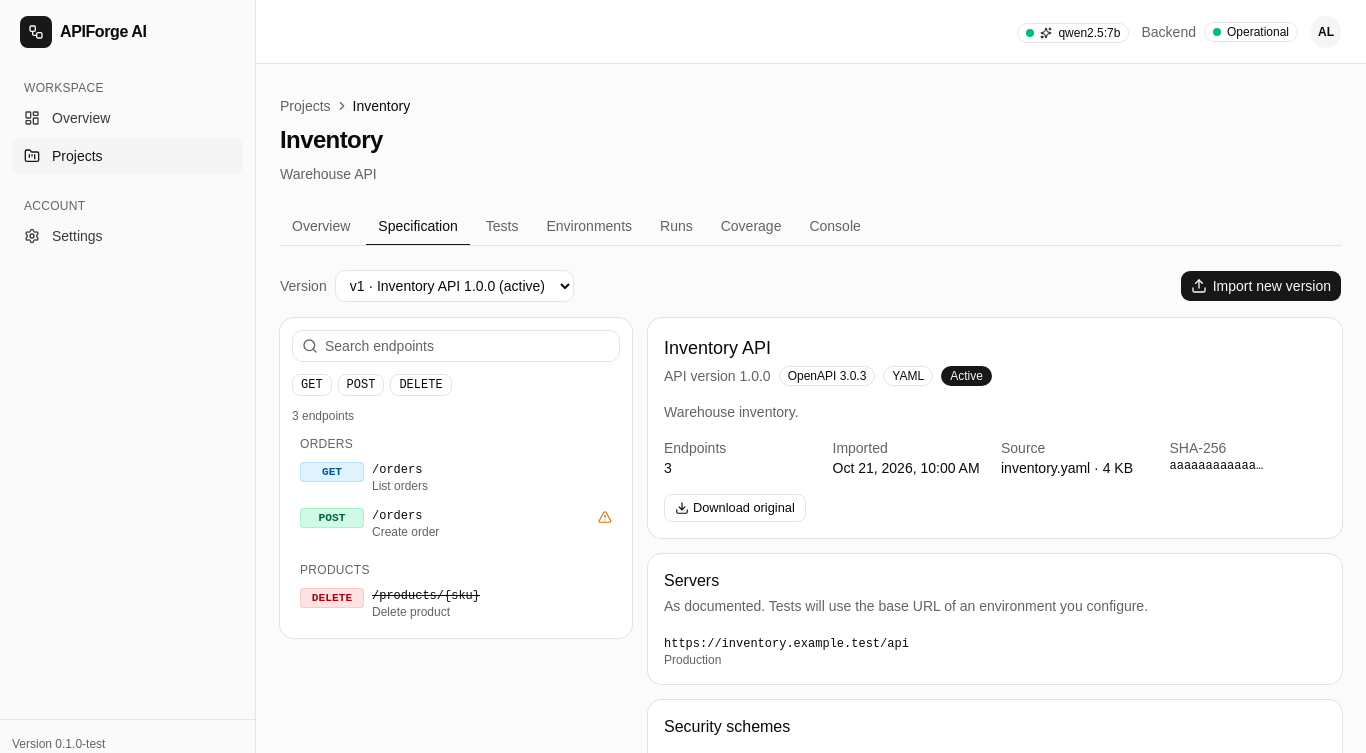
Specification explorer › shows per-endpoint import warnings and request bodies
Step 1. Click the text "Create order" → [406, 532], box left=372, top=525, right=439, bottom=539
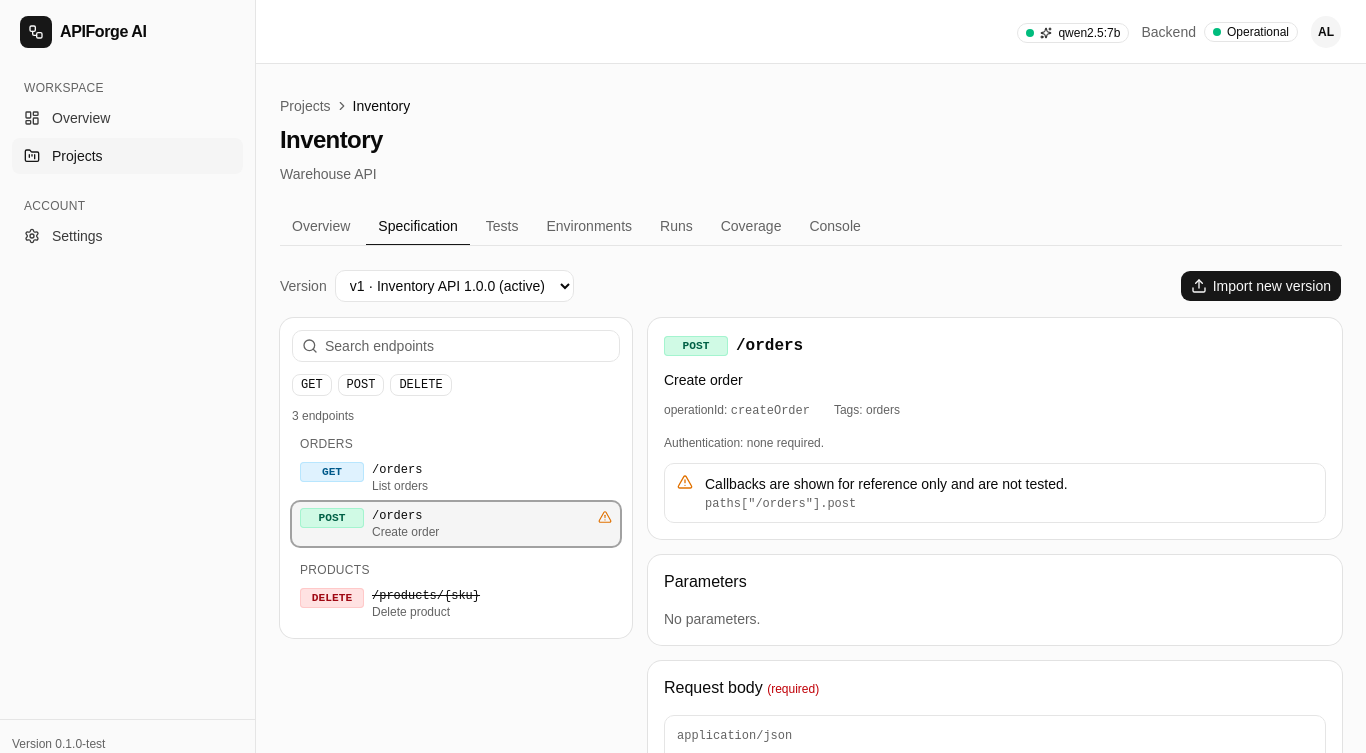
Expected: the text "Callbacks are shown for reference only and are not tested." is shown, left=705, top=474, right=1068, bottom=494
Expected: the text "(required)" is shown, left=767, top=682, right=819, bottom=696
Expected: the text "Authentication: none required." is shown, left=664, top=436, right=824, bottom=450
